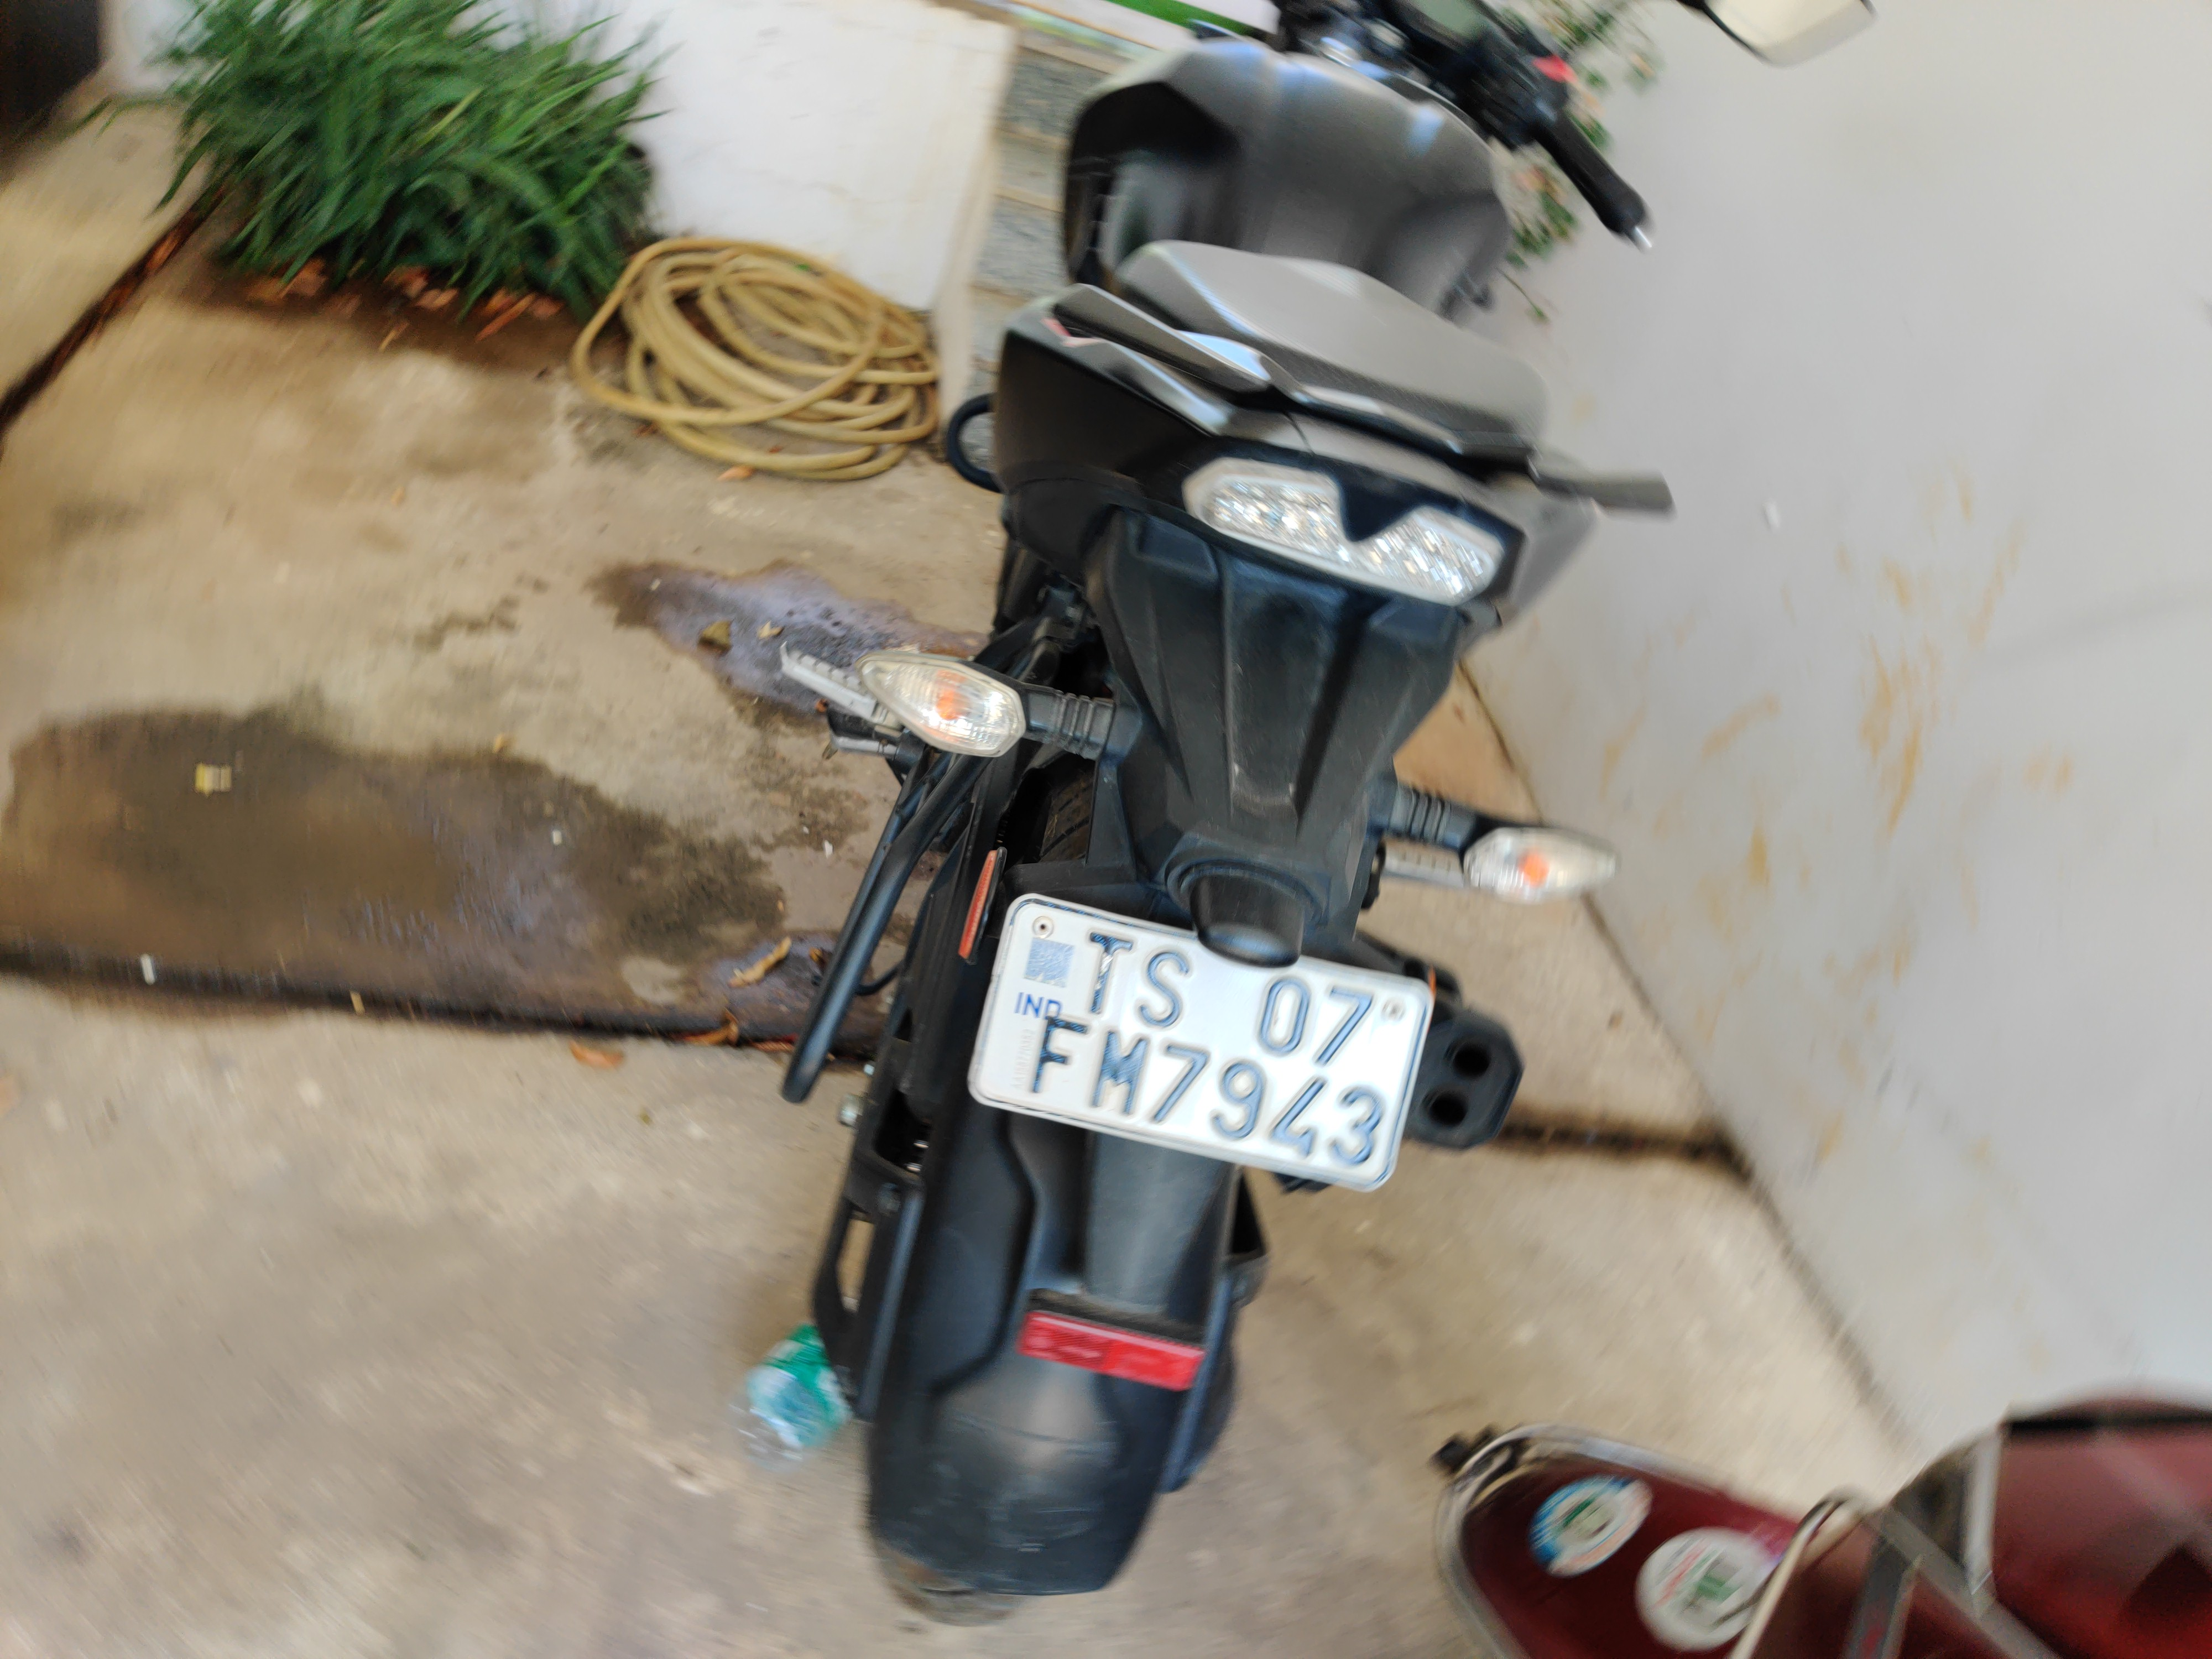plate: (954, 896, 1428, 1204)
